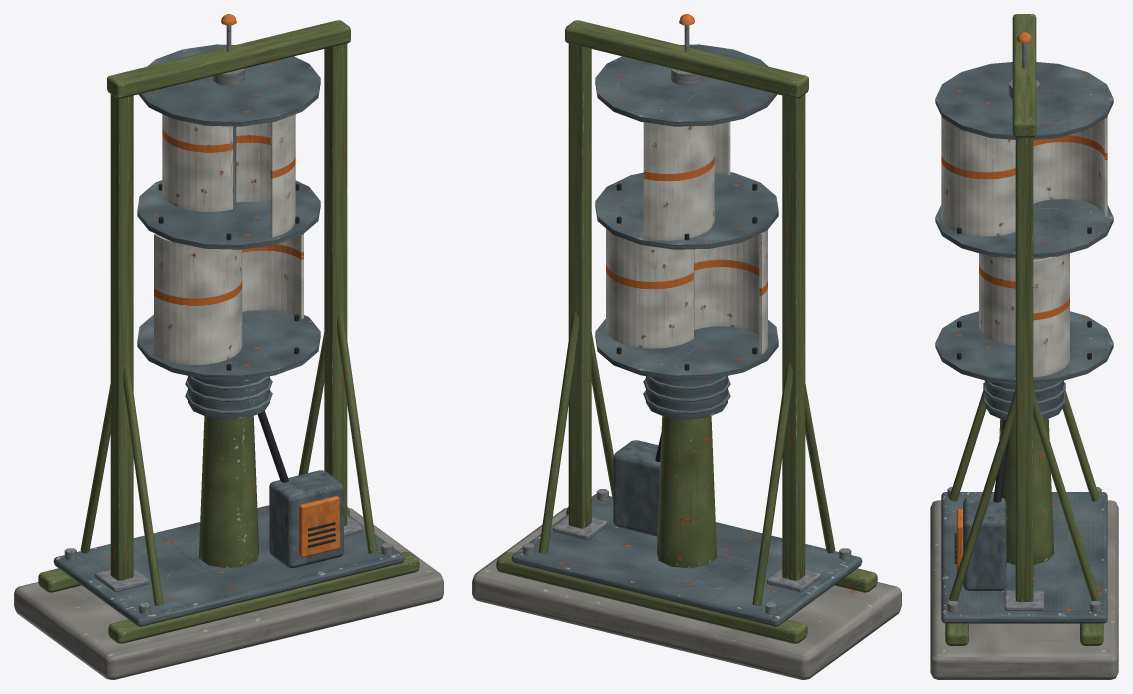
Rendered from WindTurbineMedium.glb.
The picture shows the model from 3 angles, left to right: view 1: azimuth 30°, elevation 25°; view 2: azimuth 150°, elevation 25°; view 3: azimuth 270°, elevation 25°; orthographic projection. The views are drawn at different scales.
Visible parts, largest first — view 1: Turbine, Rotor; view 2: Turbine, Rotor; view 3: Turbine, Rotor.
Part boxes in pixels (left/top/right/bottom): Turbine: left=14, top=14, right=443, bottom=679; Rotor: left=137, top=44, right=320, bottom=380; Turbine: left=472, top=14, right=901, bottom=679; Rotor: left=595, top=44, right=778, bottom=380; Turbine: left=930, top=14, right=1118, bottom=679; Rotor: left=935, top=62, right=1113, bottom=384.
Bounding box in the file's own units: 1.9 × 3.18 × 0.95.
Materials: 7 (6 with a texture image).
